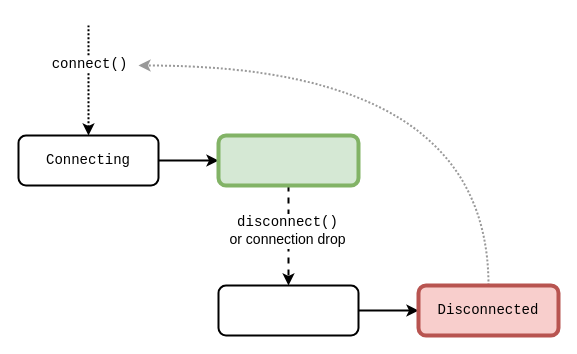
Image size: 577x354. Some labels were removed from this diagram. Here are the shapes that lost their labels. From the top down, the centre of each, then its label:
[288,160]: Connected
[288,310]: Disconnecting
